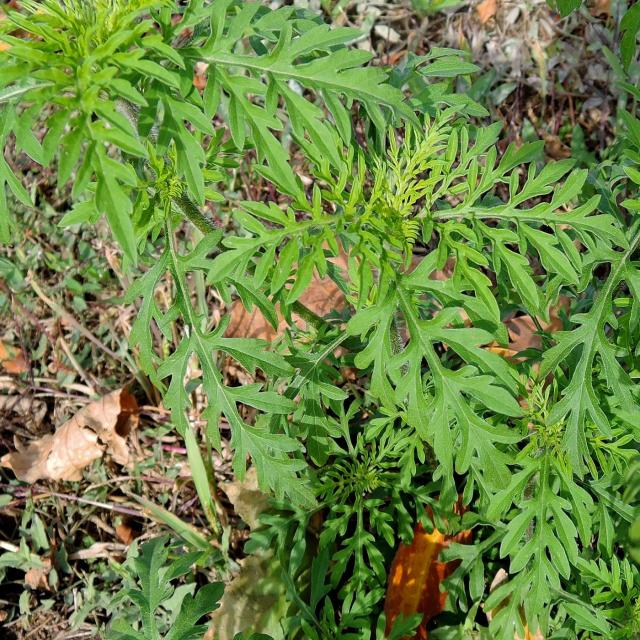ambrosia: (211, 171, 618, 488), (21, 0, 454, 256)
